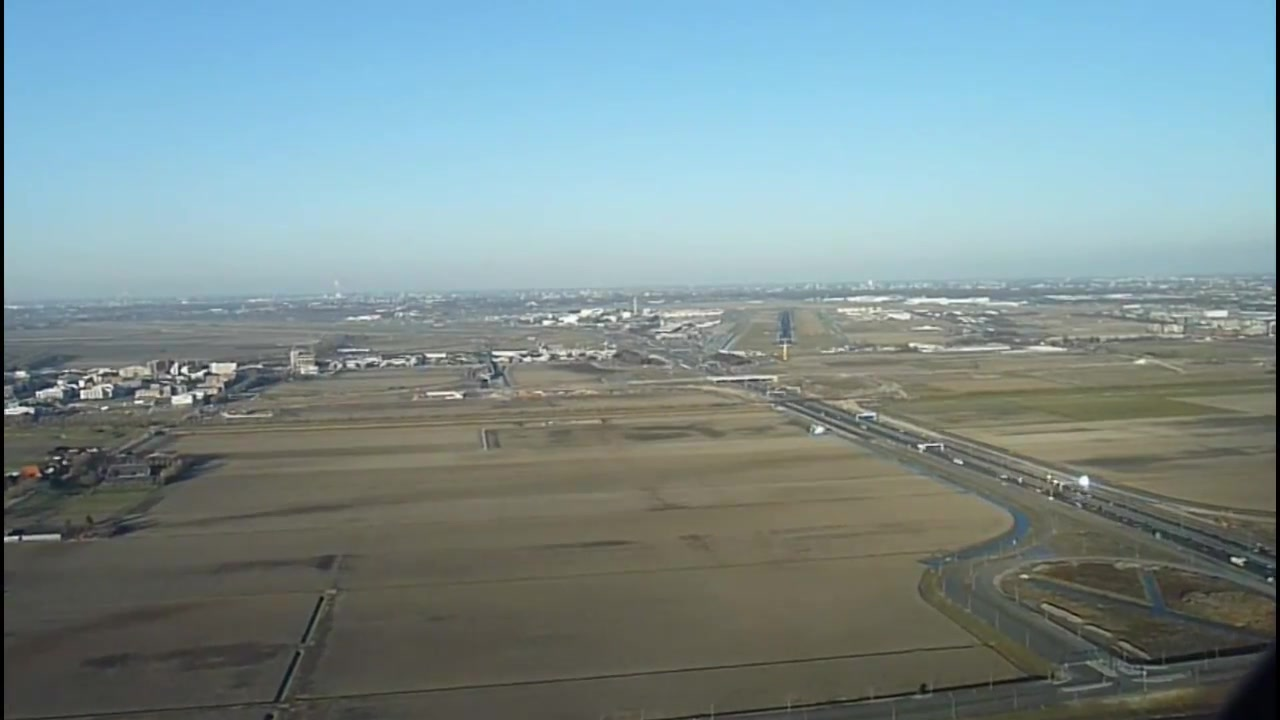runway: (773, 310, 797, 348)
